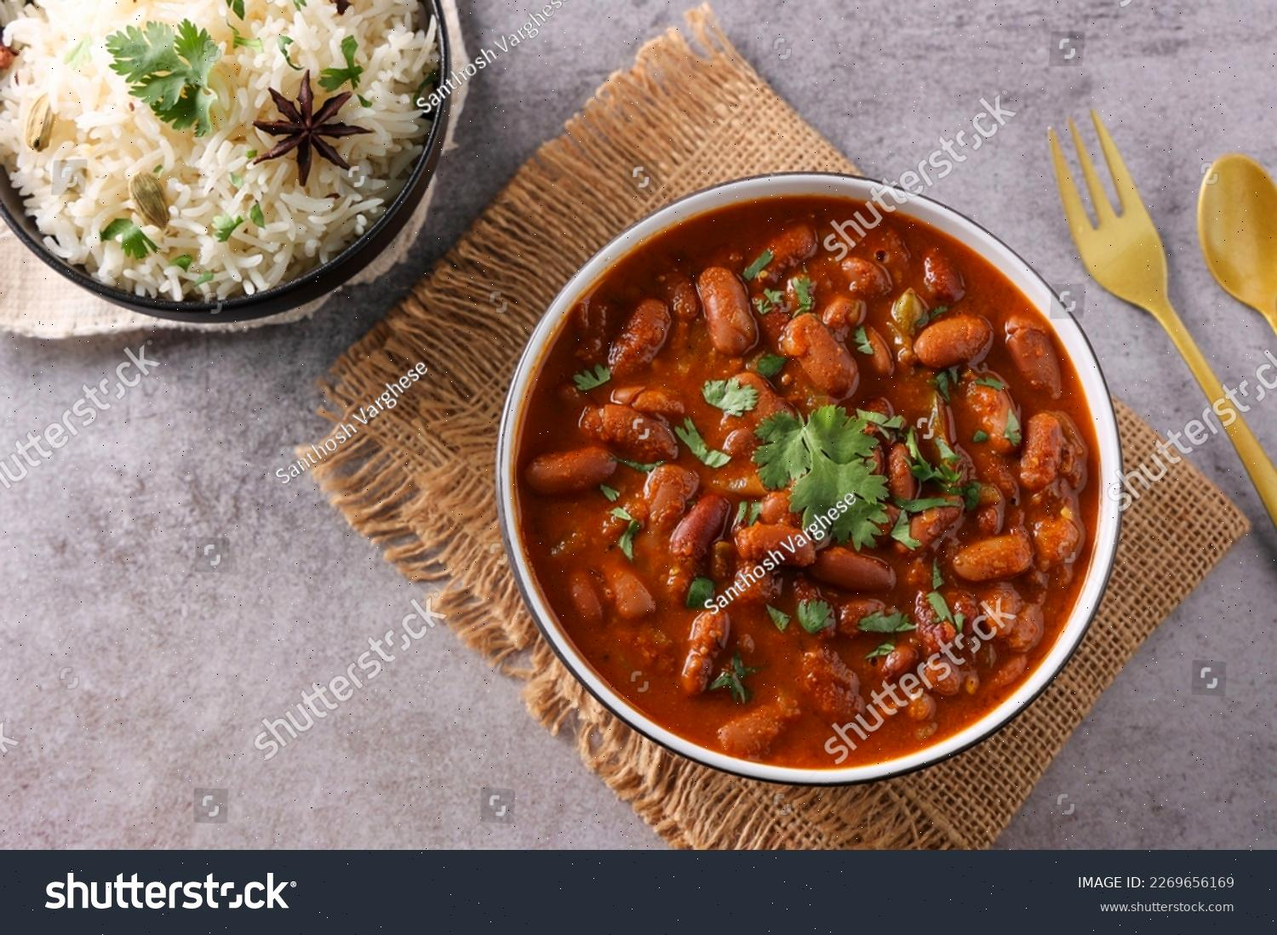rajma: (553, 245, 1085, 742)
rice: (6, 0, 449, 302)
